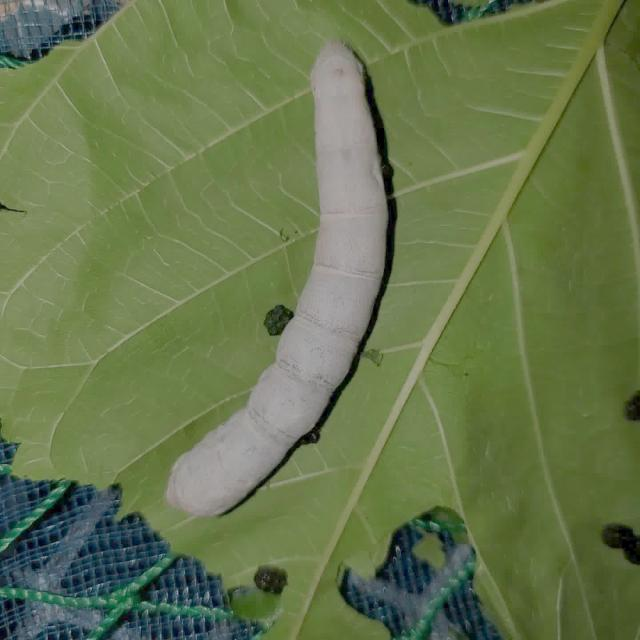Healthy: (146, 26, 422, 530)
